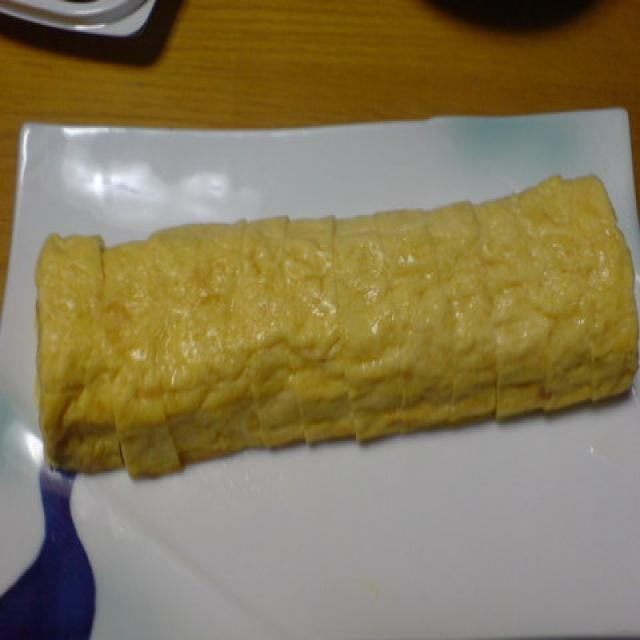鸡蛋料理: (40, 167, 636, 487)
